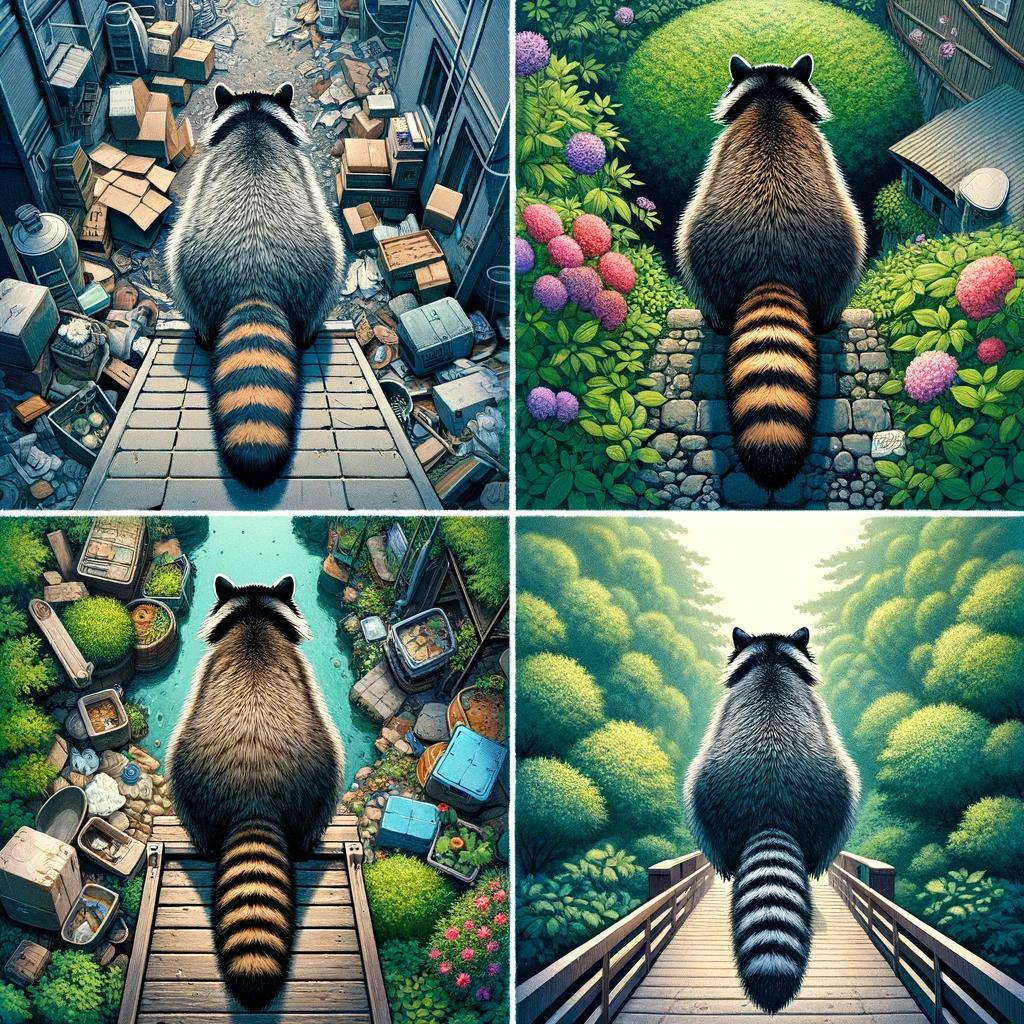raccoon: (662, 43, 877, 498), (158, 563, 352, 1013), (157, 72, 358, 498), (675, 612, 868, 1020)
